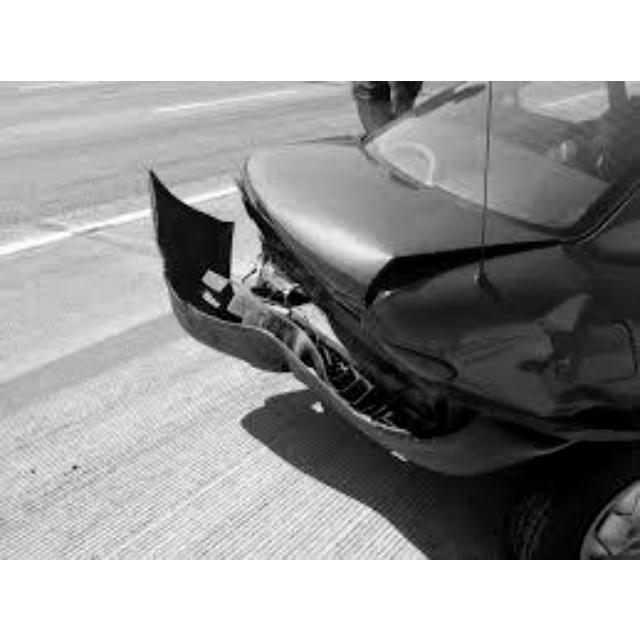boot-dent: (238, 154, 425, 312)
rear-bumper-dent: (213, 315, 408, 443)
